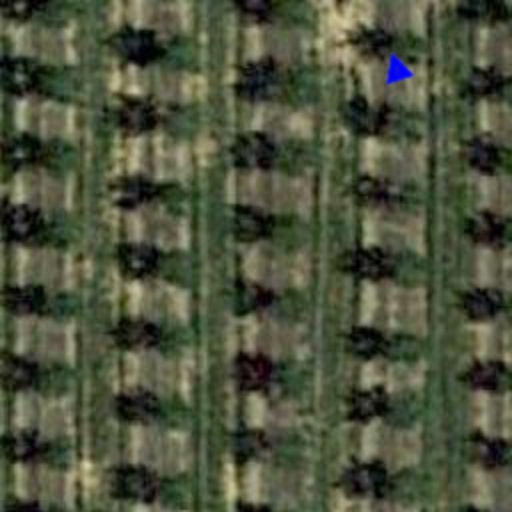triangle: (376, 46, 416, 86)
